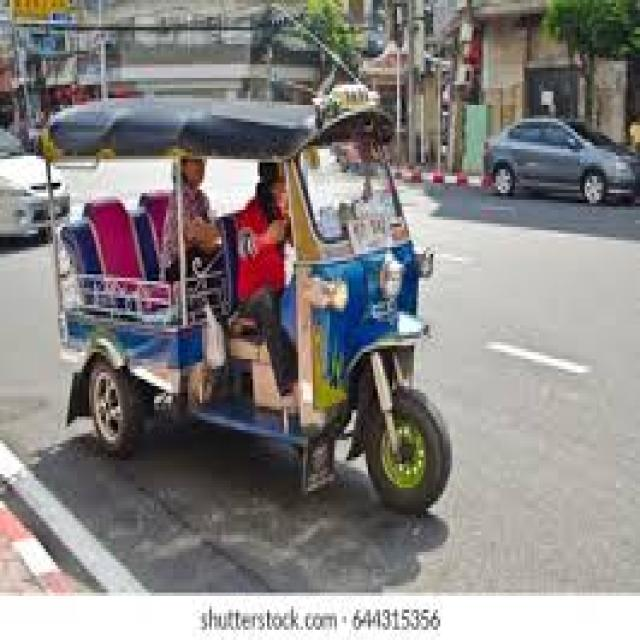tuktuk: (24, 54, 475, 545)
